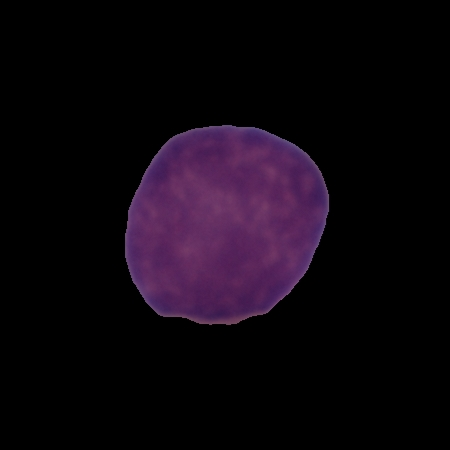HEM: (120, 121, 333, 329)
